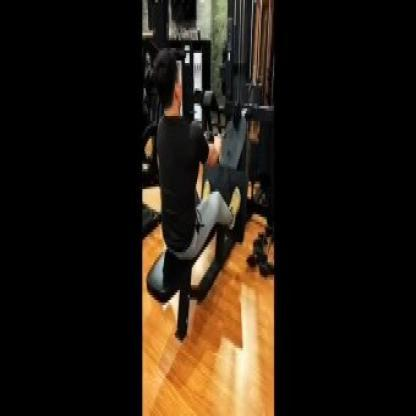Seated Cable Rows: (142, 0, 273, 343)
